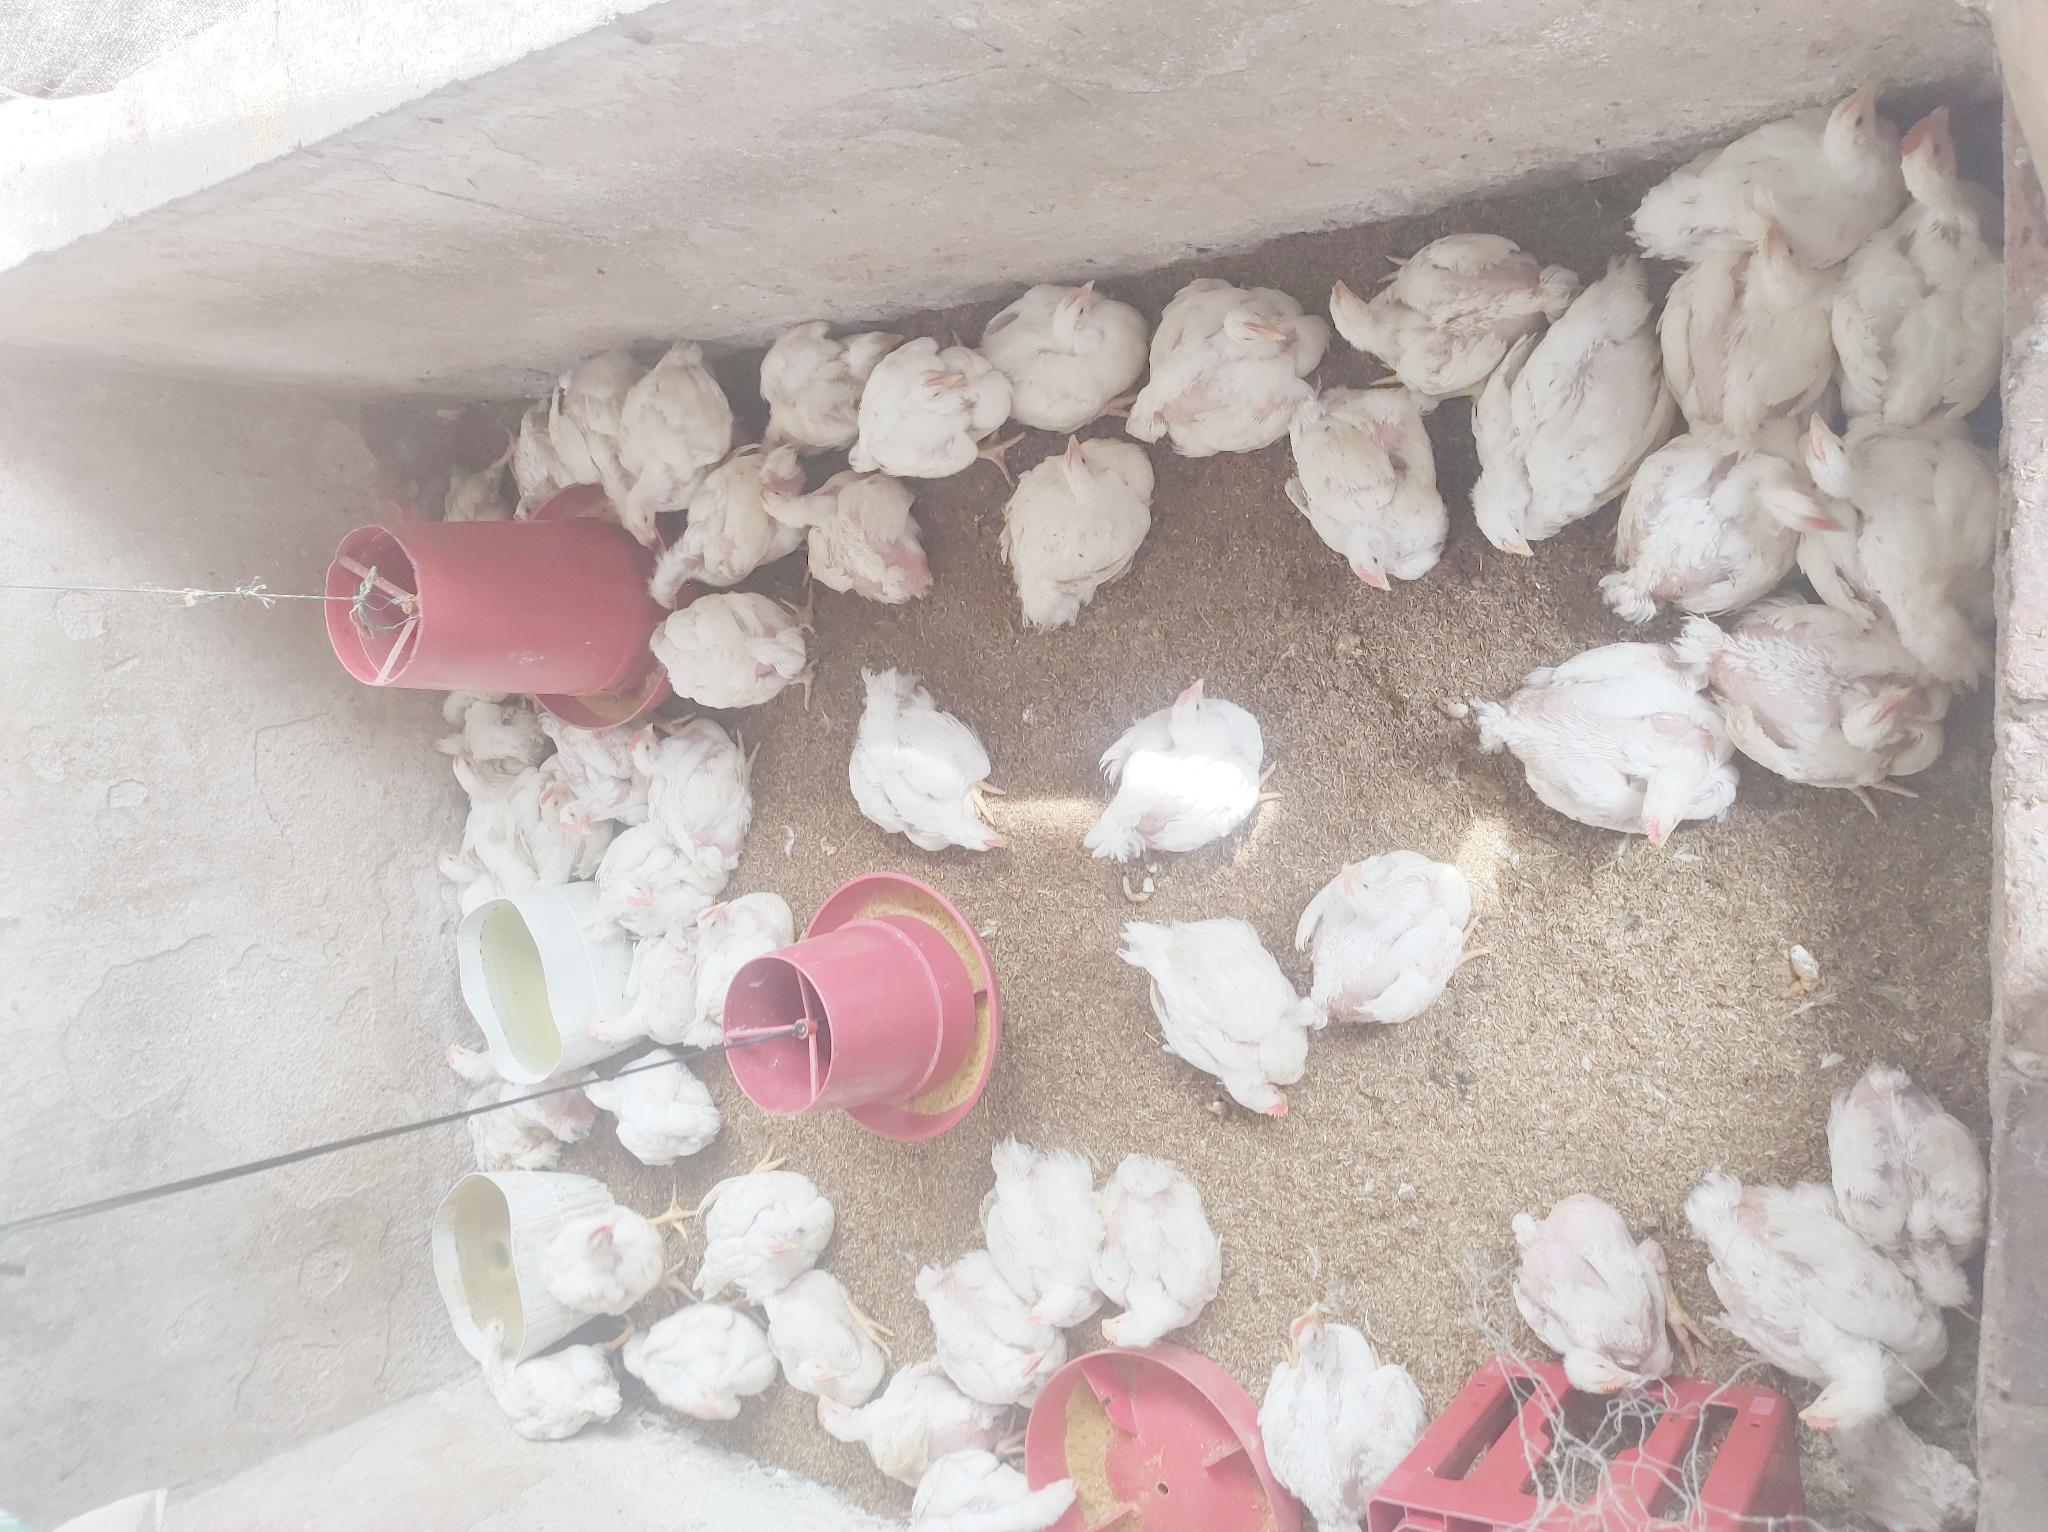Pollos: (1686, 1159, 1945, 1435), (1470, 270, 1678, 563), (1803, 394, 2008, 681), (1478, 631, 1734, 850), (1713, 591, 1948, 822), (1842, 101, 2009, 409), (1643, 77, 1902, 259), (1266, 1279, 1446, 1532), (1612, 423, 1844, 616), (1828, 1052, 2001, 1307), (1498, 1189, 1696, 1402), (1136, 909, 1321, 1133), (1321, 224, 1565, 388), (1285, 383, 1462, 592), (1298, 835, 1474, 1043), (1137, 267, 1329, 454), (838, 669, 1014, 866), (1684, 222, 1834, 446), (1092, 674, 1273, 853), (1010, 426, 1155, 629), (980, 267, 1149, 430), (1088, 1152, 1219, 1353), (973, 1106, 1097, 1315), (854, 330, 1018, 484), (645, 444, 798, 607), (755, 314, 906, 467), (433, 1020, 565, 1192), (761, 483, 940, 608), (692, 1146, 837, 1300), (621, 351, 735, 542), (615, 1297, 772, 1435), (819, 1353, 1001, 1468), (914, 1254, 1054, 1402), (529, 1199, 698, 1320), (755, 1260, 886, 1408), (570, 1041, 718, 1167), (893, 1435, 1081, 1532), (652, 594, 812, 706), (640, 711, 755, 867), (467, 1329, 594, 1455), (689, 895, 806, 1025), (589, 827, 724, 933), (541, 362, 639, 496), (558, 719, 639, 834), (603, 935, 690, 1036), (450, 750, 524, 850), (505, 412, 560, 534), (439, 454, 504, 554), (434, 840, 491, 912), (439, 677, 512, 715), (431, 715, 471, 764), (533, 790, 576, 821)
